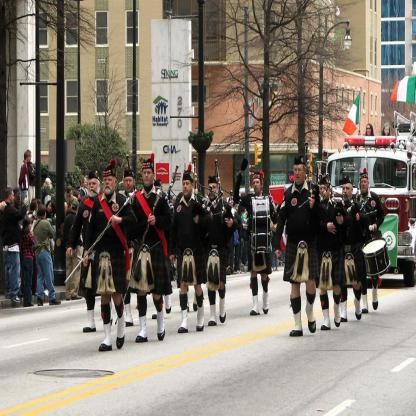face: (104, 174, 115, 194), (143, 169, 154, 186), (295, 166, 305, 183), (89, 178, 99, 195), (343, 185, 353, 201), (184, 180, 194, 195), (209, 184, 218, 199), (125, 177, 134, 192), (321, 186, 330, 200), (254, 179, 262, 194), (361, 179, 369, 191), (16, 192, 22, 204), (48, 204, 54, 213), (158, 182, 163, 192), (386, 127, 391, 136), (367, 126, 372, 135), (11, 194, 15, 203), (84, 181, 88, 188), (29, 223, 32, 232), (230, 201, 234, 207), (36, 206, 39, 213), (29, 155, 32, 161), (72, 190, 74, 196), (28, 157, 30, 163)
